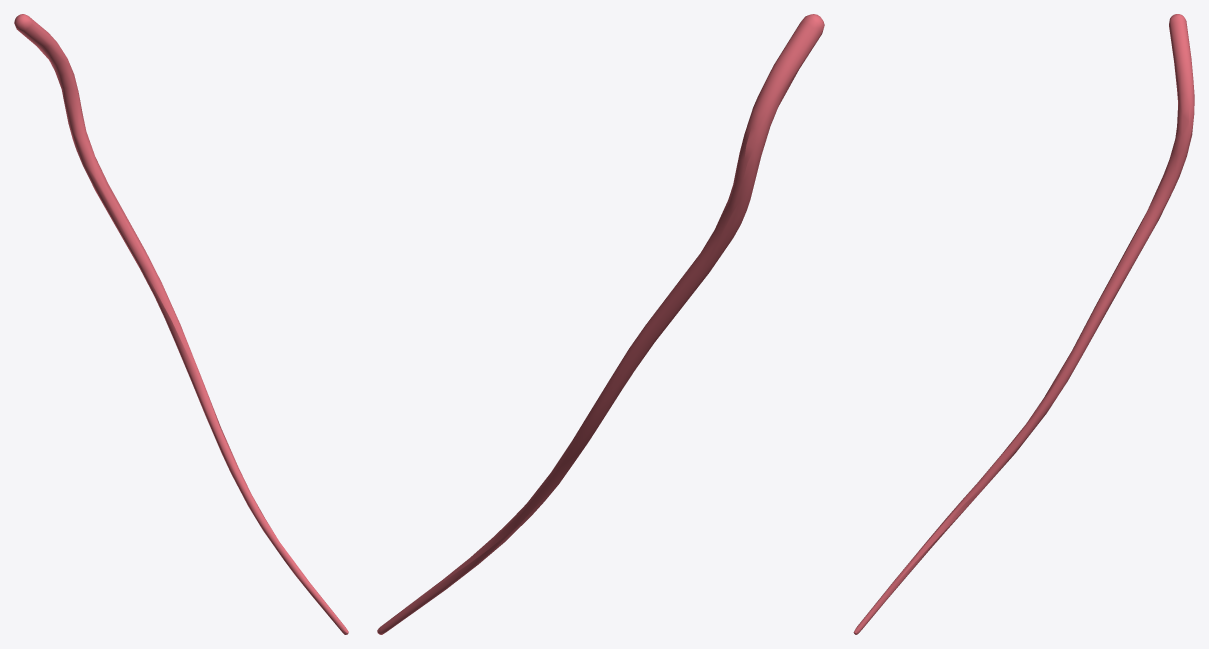
The model's file is fma85102_fj2360.glb.
3 views of the same model, side by side, from view 1: azimuth 30°, elevation 25°; view 2: azimuth 210°, elevation 25°; view 3: azimuth 270°, elevation 25° (orthographic). The views are drawn at different scales.
Parts seen in each view (by area): view 1: FMA85102_FJ2360; view 2: FMA85102_FJ2360; view 3: FMA85102_FJ2360.
Part boxes in pixels (left/top/right/bottom): FMA85102_FJ2360: left=14, top=14, right=348, bottom=634; FMA85102_FJ2360: left=377, top=14, right=824, bottom=634; FMA85102_FJ2360: left=853, top=14, right=1194, bottom=634.
Size of the model in its own units: 0.0157 by 0.0474 by 0.0271.
